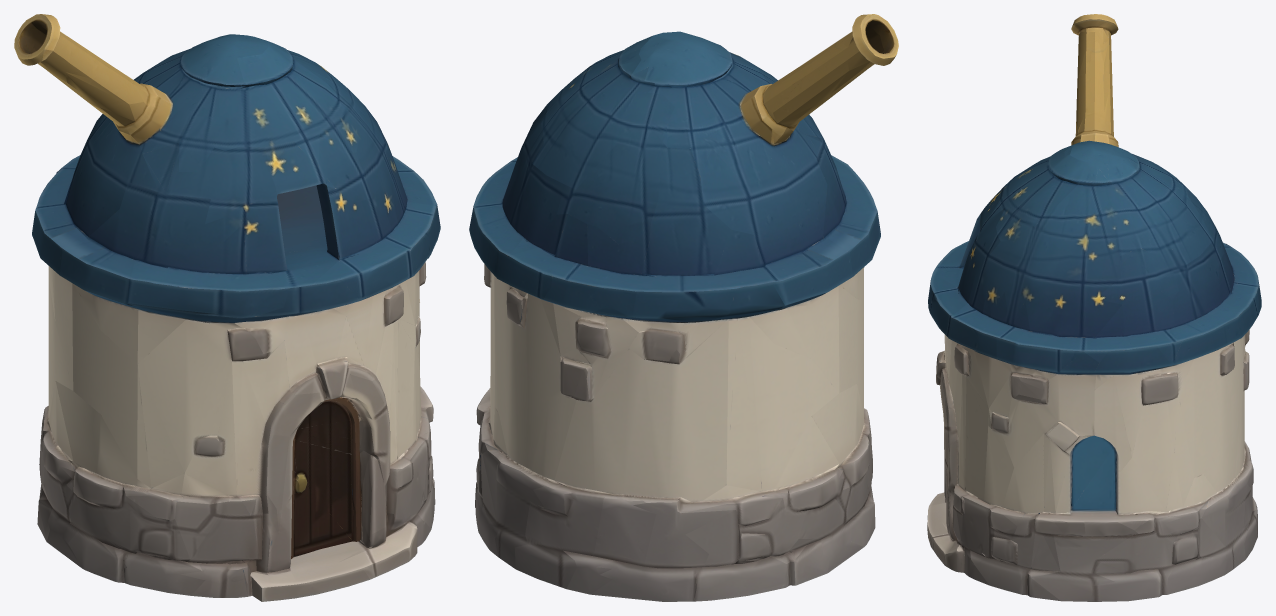
The model's file is observatory.glb.
3 views of the same model, side by side, from view 1: azimuth 30°, elevation 25°; view 2: azimuth 150°, elevation 25°; view 3: azimuth 270°, elevation 25° (orthographic). The views are drawn at different scales.
Parts seen in each view (by area): view 1: observatory; view 2: observatory; view 3: observatory.
Part boxes in pixels (x1=…): observatory: x1=14, y1=14, x2=440, y2=601; observatory: x1=469, y1=14, x2=898, y2=601; observatory: x1=927, y1=14, x2=1261, y2=601.
Size of the model in its own units: 6.03 by 8 by 5.46.
Materials: 1 (1 with a texture image).
